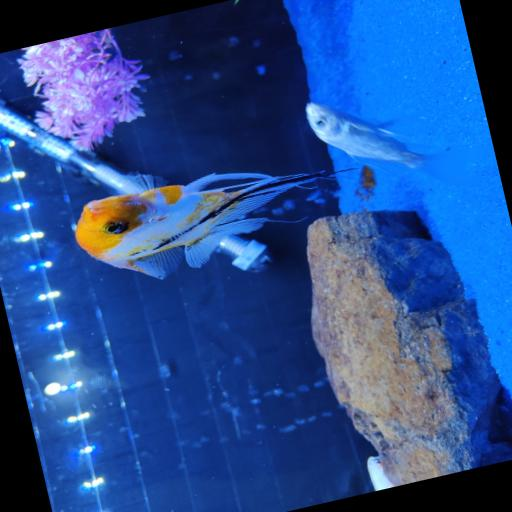Fish: (76, 171, 327, 278), (306, 102, 482, 182), (306, 102, 428, 168)
